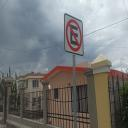NoEstacionar: (62, 10, 86, 60)
